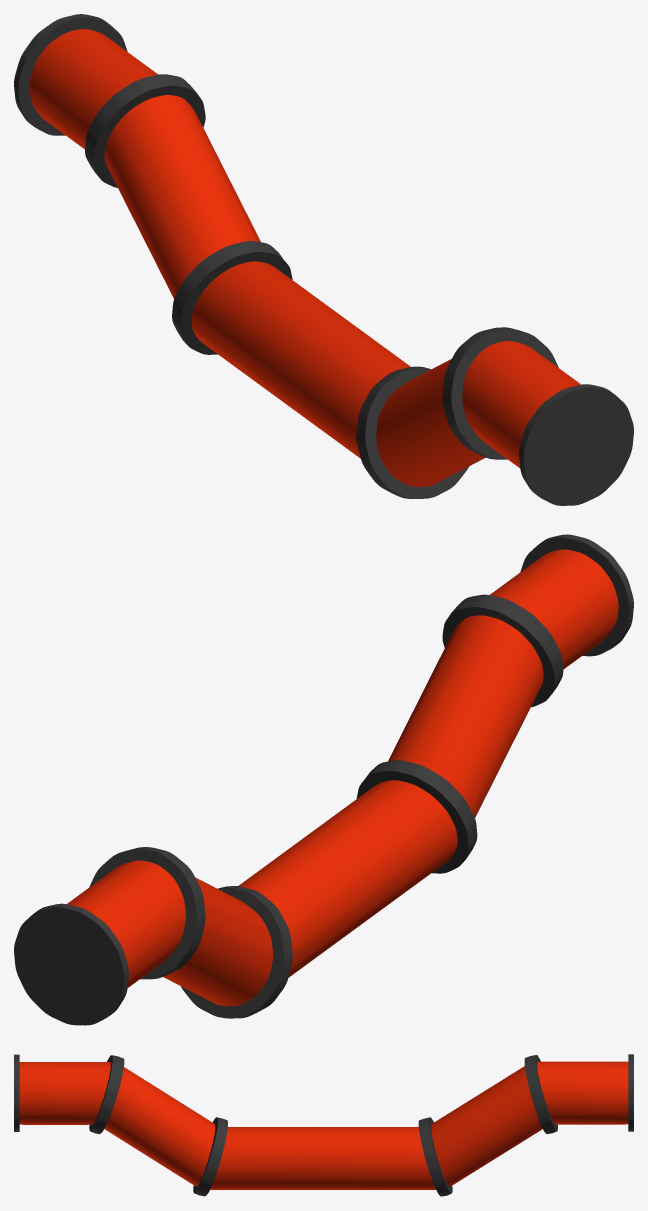
The model's file is S_assete_tube_3.fbx.
3 renders of one model, top to bottom at view 1: azimuth 30°, elevation 25°; view 2: azimuth 150°, elevation 25°; view 3: azimuth 270°, elevation 25°, orthographic. The views are drawn at different scales.
Parts seen in each view (by area): view 1: S_basement_tube_3; view 2: S_basement_tube_3; view 3: S_basement_tube_3.
Part boxes in pixels (x1=…): S_basement_tube_3: x1=14, y1=14, x2=633, y2=505; S_basement_tube_3: x1=14, y1=534, x2=633, y2=1025; S_basement_tube_3: x1=14, y1=1054, x2=633, y2=1196.
Size of the model in its own units: 25.03 by 48.03 by 200.
